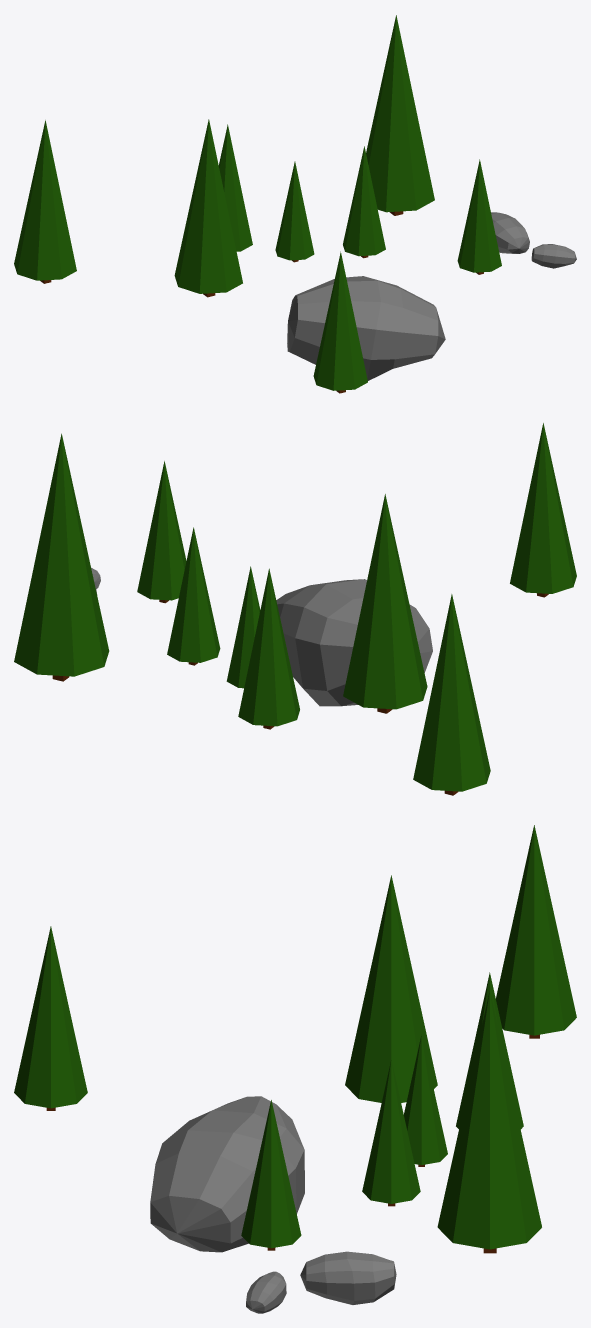
Rendered from hex_dec_trees.fbx.
3 renders of one model, top to bottom at view 1: azimuth 30°, elevation 25°; view 2: azimuth 150°, elevation 25°; view 3: azimuth 270°, elevation 25°, orthographic. The views are drawn at different scales.
Parts seen in each view (by area): view 1: pSphere4; view 2: pSphere4; view 3: pSphere4.
Boxes of the visible parts, x1,y1,x2,y2 form: pSphere4: (14,15,576,393); pSphere4: (14,423,576,795); pSphere4: (14,825,576,1313).
Bounding box in the file's own units: 2.95 × 1.6 × 2.42.
